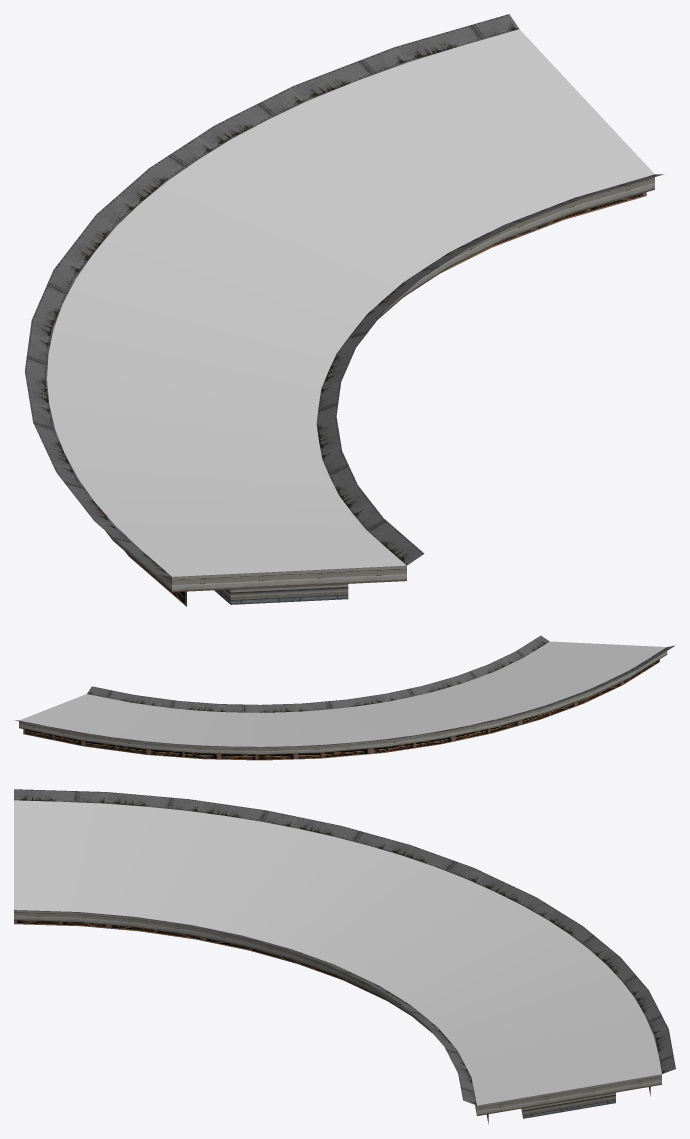
Rendered from Bend2x2Banked.fbx.
The picture shows the model from 3 angles, top to bottom: view 1: azimuth 30°, elevation 25°; view 2: azimuth 150°, elevation 25°; view 3: azimuth 270°, elevation 25°; orthographic projection. The views are drawn at different scales.
Parts seen in each view (by area): view 1: Empty_Mesh; view 2: Empty_Mesh; view 3: Empty_Mesh.
Boxes of the visible parts, x1=… form: Empty_Mesh: x1=25, y1=14, x2=663, y2=606; Empty_Mesh: x1=15, y1=635, x2=675, y2=760; Empty_Mesh: x1=14, y1=789, x2=675, y2=1124.
Size of the model in its own units: 57.2 by 5.31 by 57.2.
